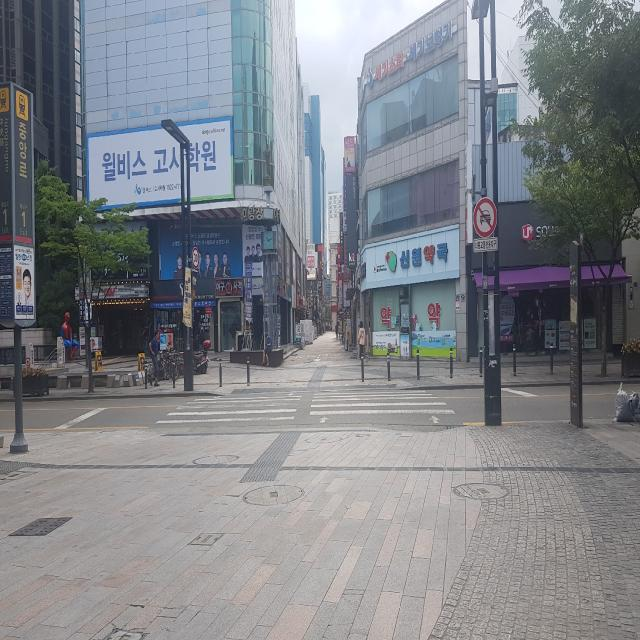횡단보도: (154, 389, 456, 425)
